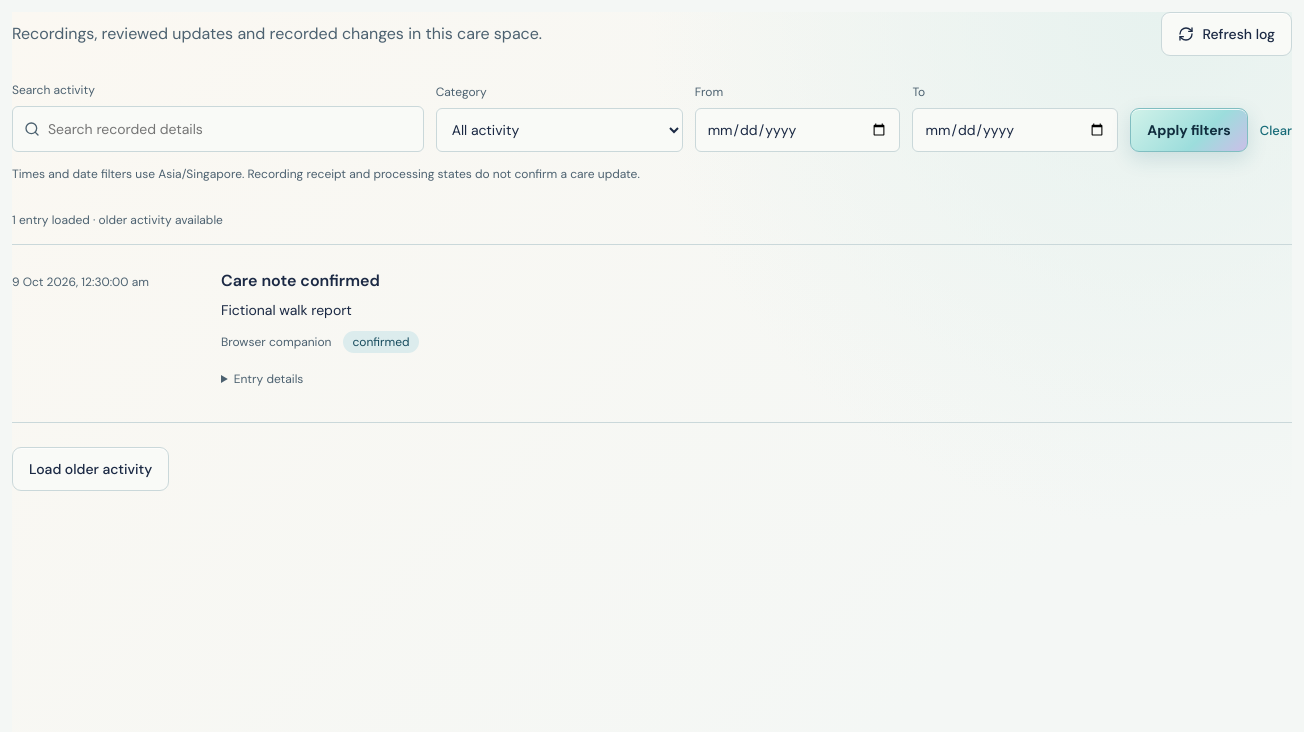
Test: loads safe activity and requests older pages without duplicating existing entries
Expected: the heading "Care note confirmed" is shown, left=221, top=270, right=380, bottom=291
Expected: the text "9 Oct 2026, 12:30:00 am" is shown, left=12, top=274, right=149, bottom=290
Click the button "Load older activity": (91, 469) left=12, top=447, right=169, bottom=491
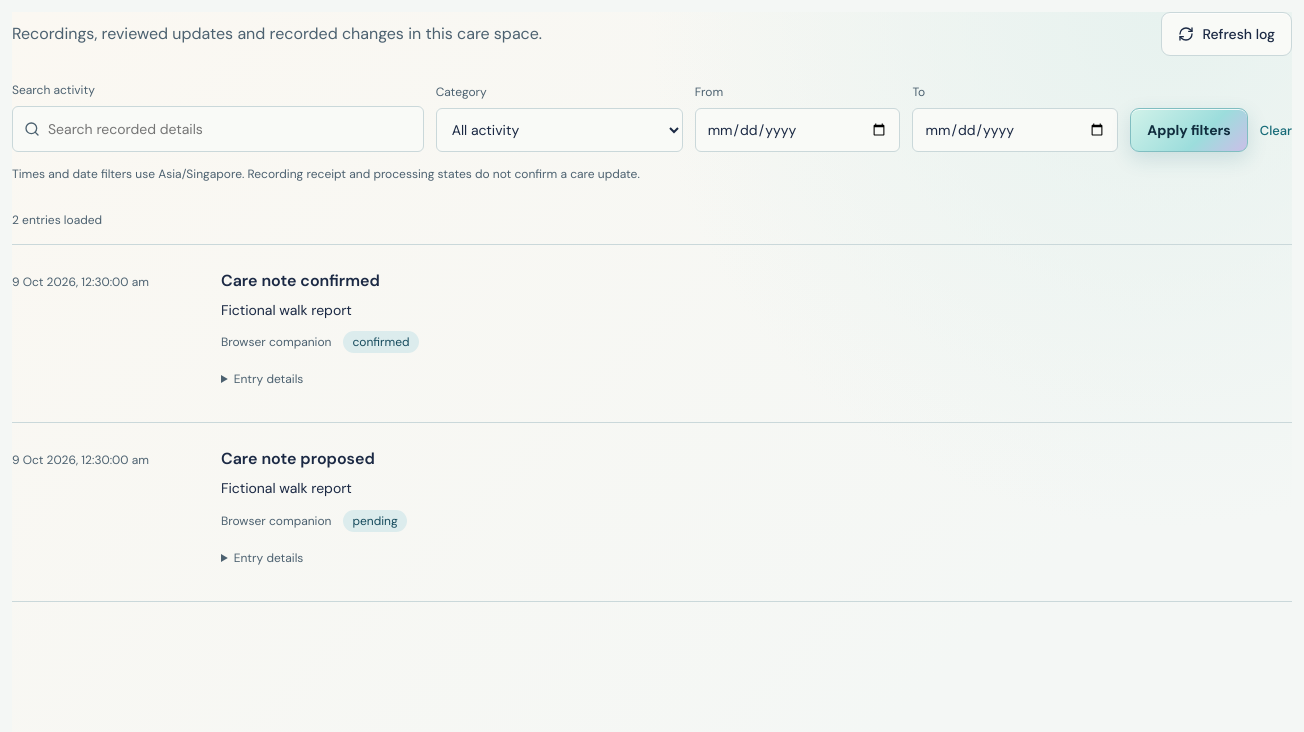
Expected: the heading "Care note proposed" is shown, left=221, top=448, right=375, bottom=469
Expected: the number of list items is 2, left=12, top=245, right=1292, bottom=423; left=12, top=423, right=1292, bottom=602
